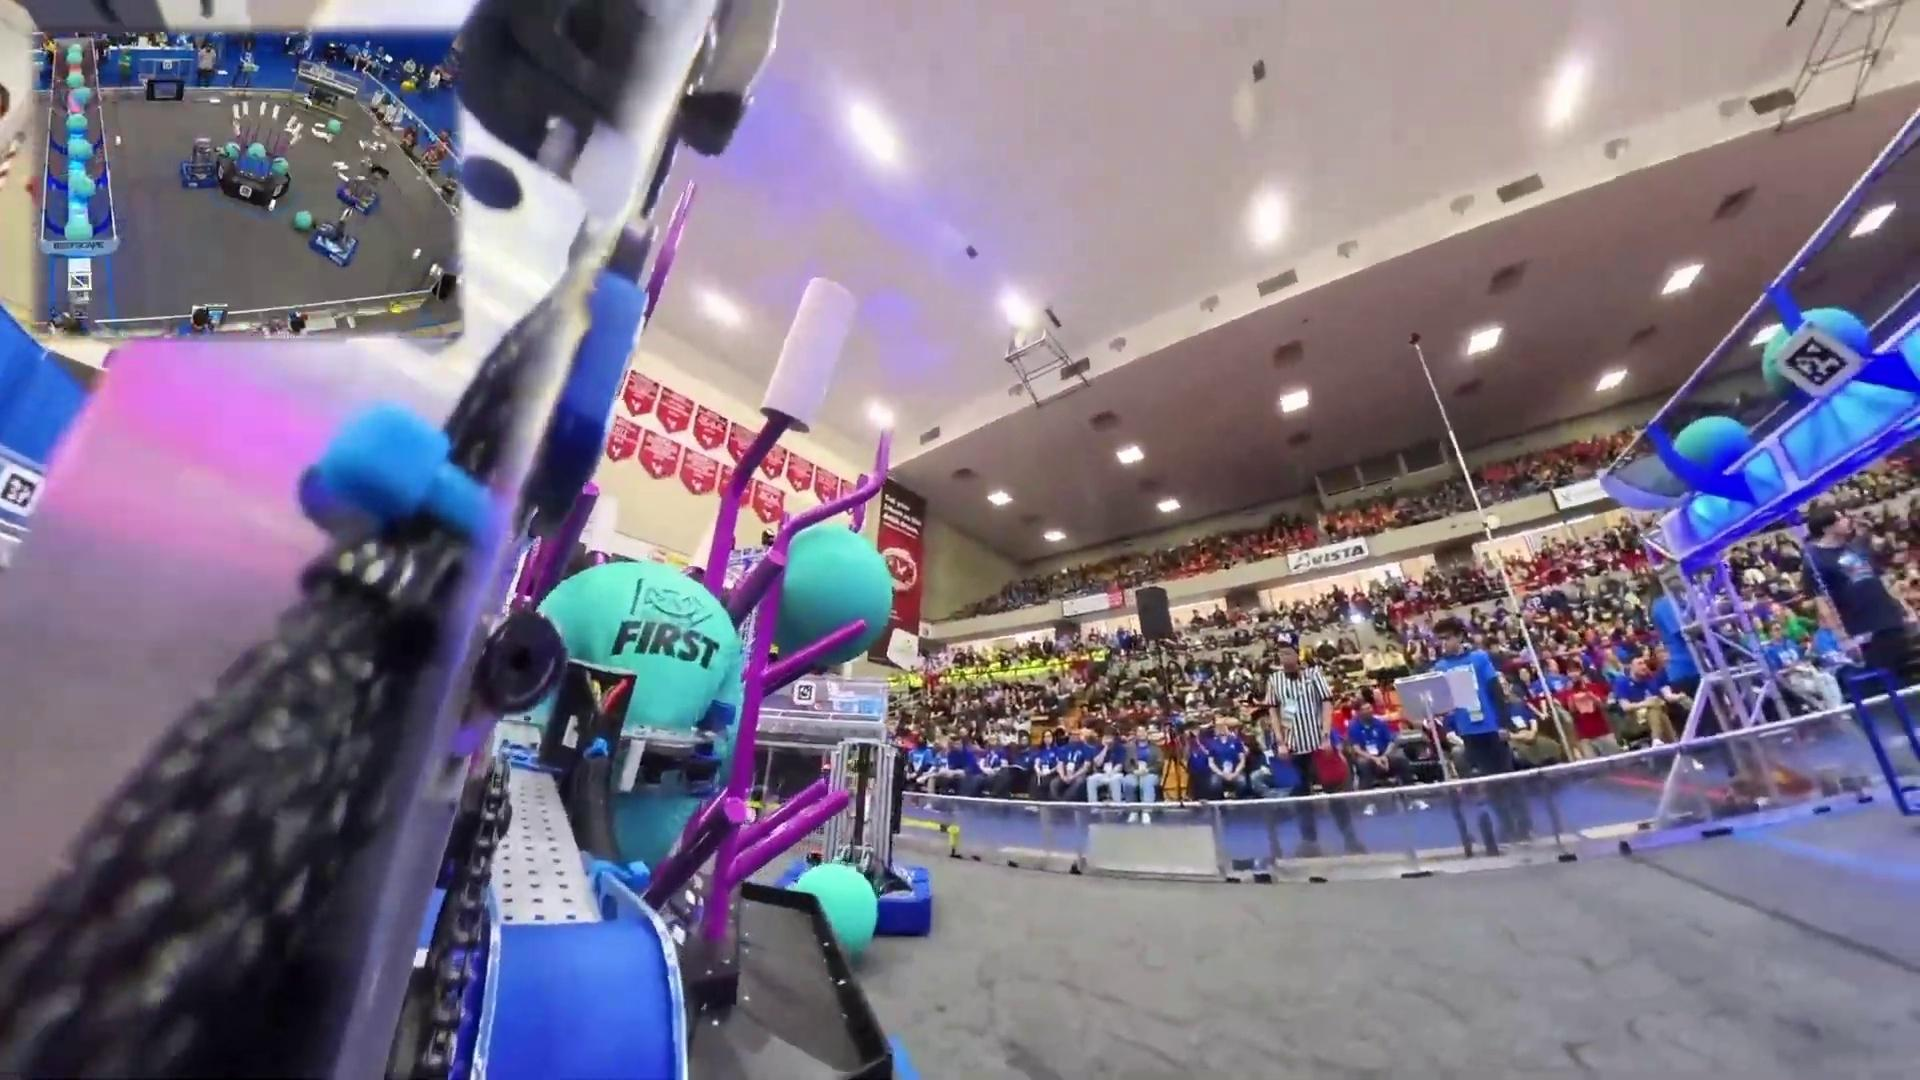robot: (774, 725, 931, 940), (311, 203, 360, 270), (332, 164, 381, 216), (178, 131, 220, 190)
